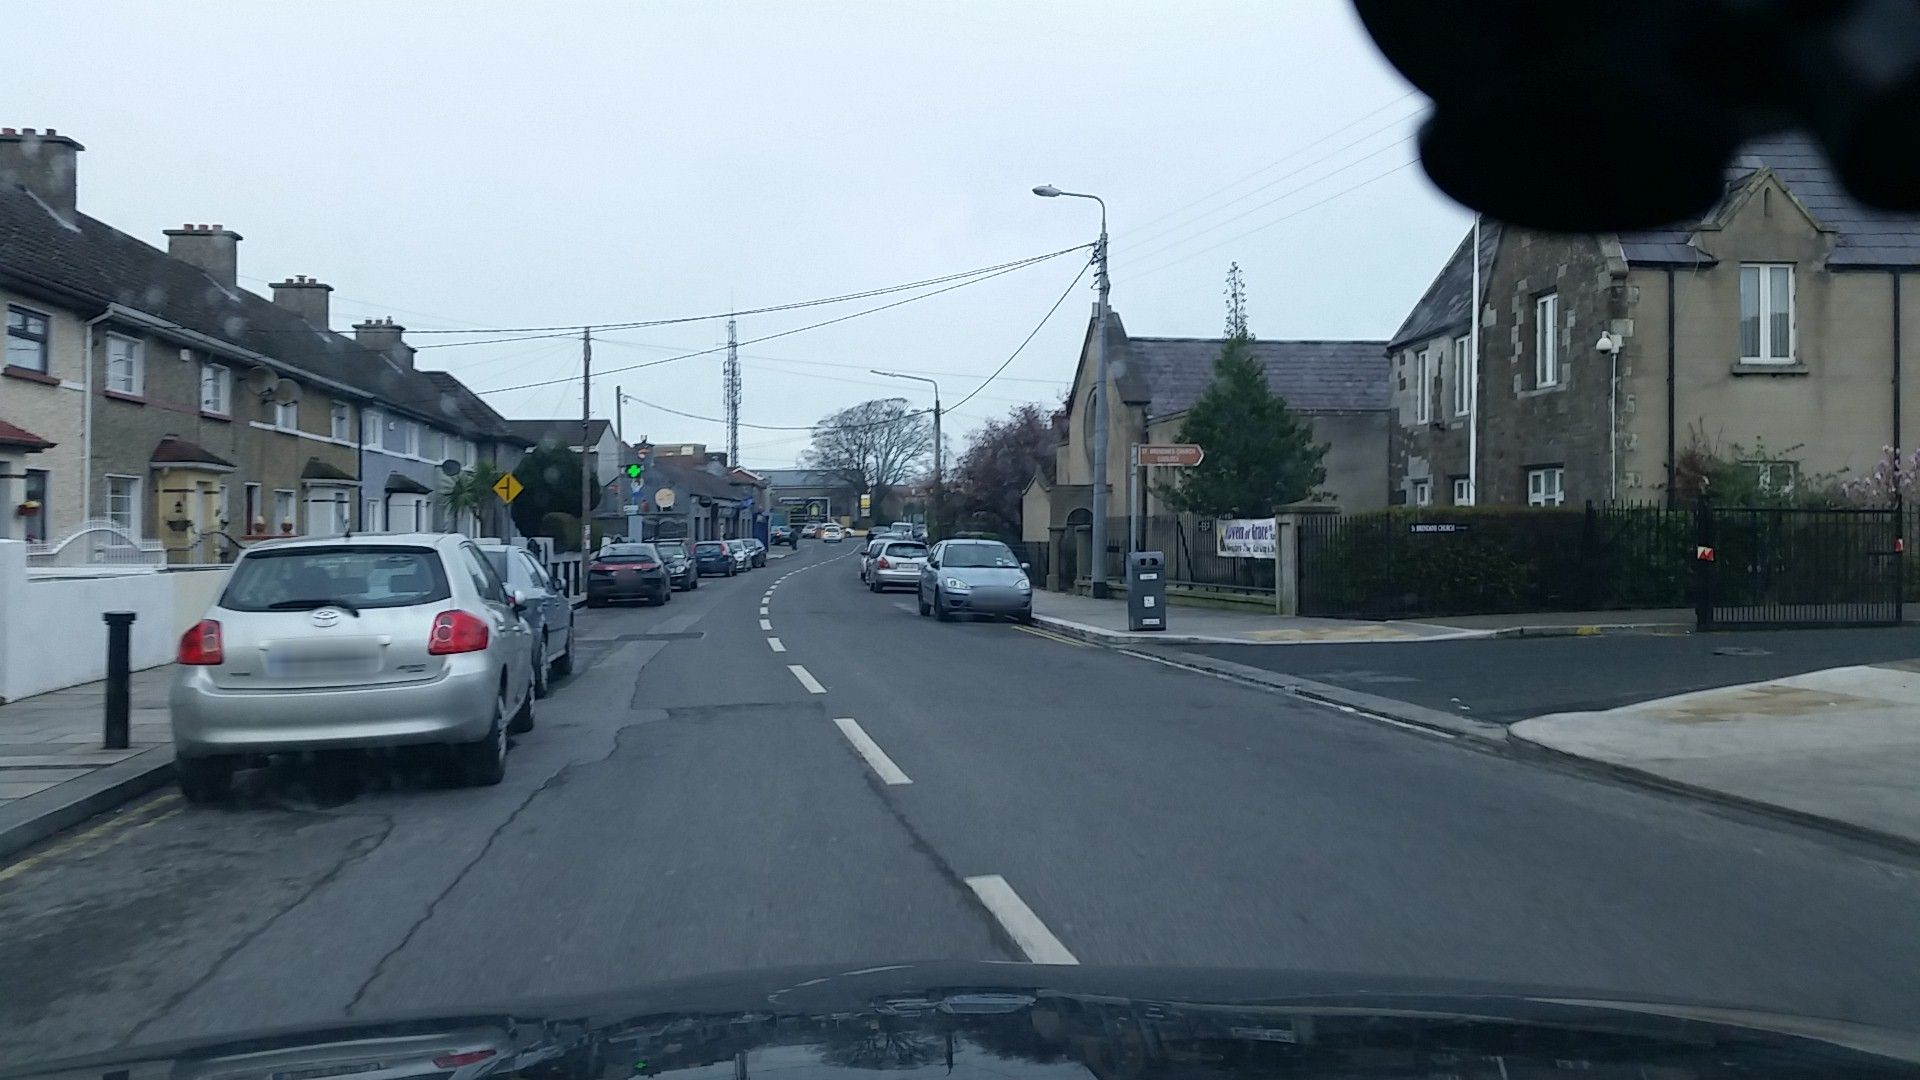vinyl banner: (1200, 496, 1291, 567)
